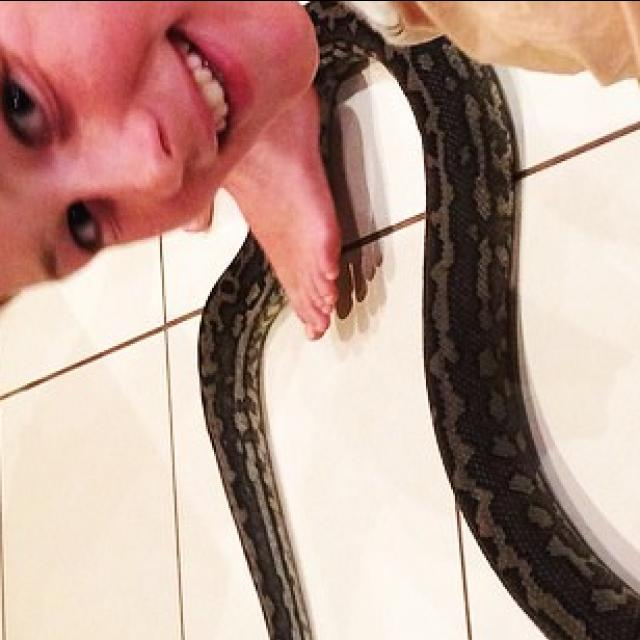snake: (193, 0, 640, 640)
